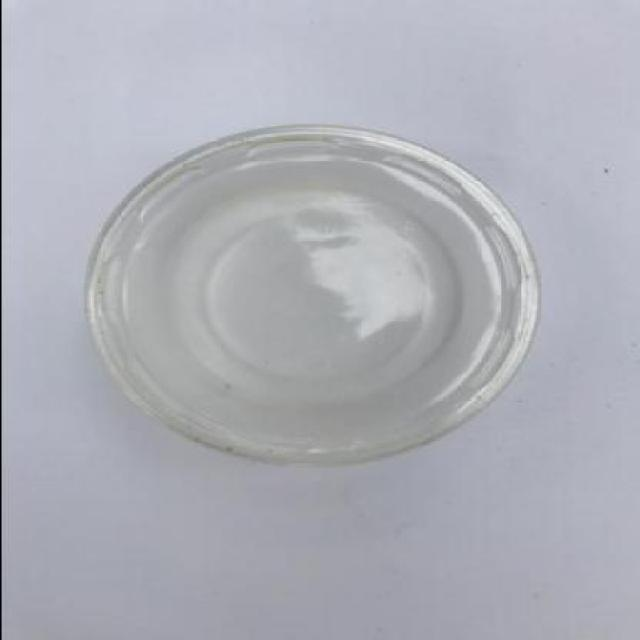PLASTIC: (85, 124, 540, 465)
